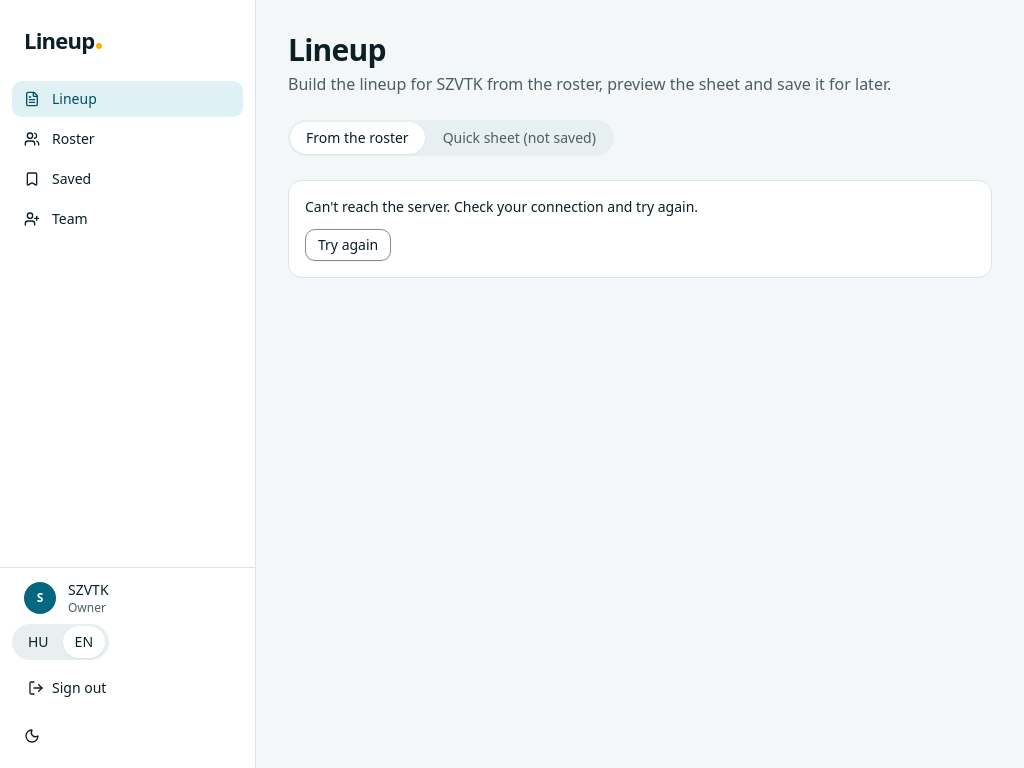
it: saved page › is reachable from the navigation
What coordinates should you click on to do the following:
click the link "Saved"
I would click on:
 (58, 178)
Its box is [24,169,91,188].
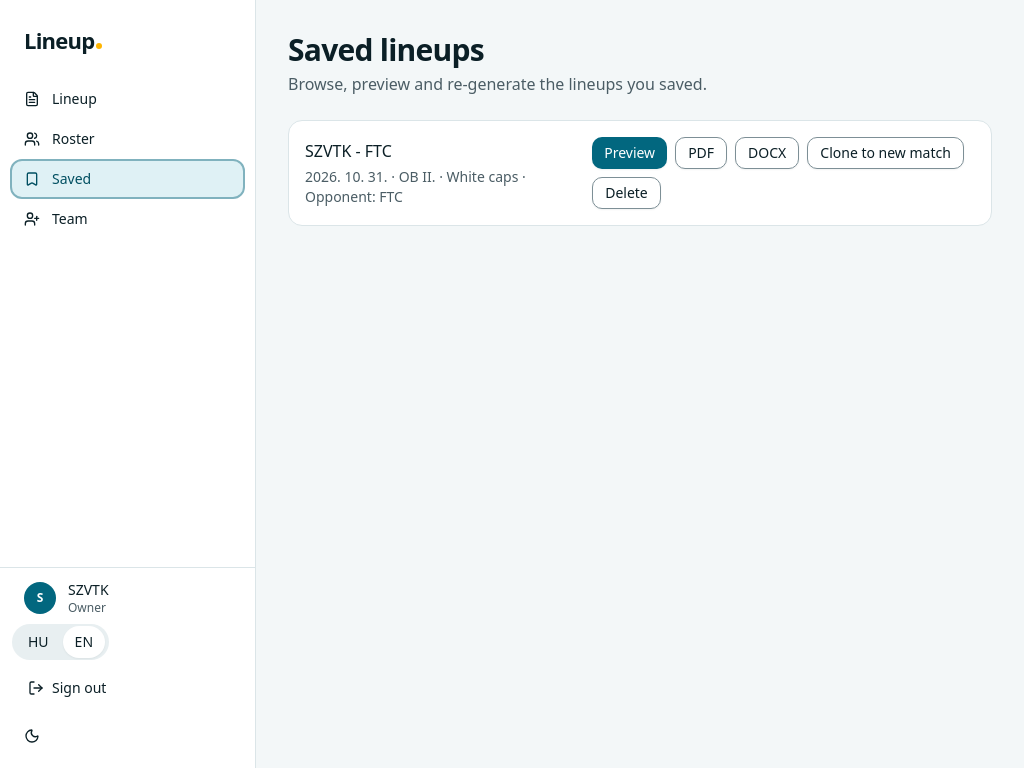
Check: the text "SZVTK - FTC" is shown, box [305,140,392,162]
